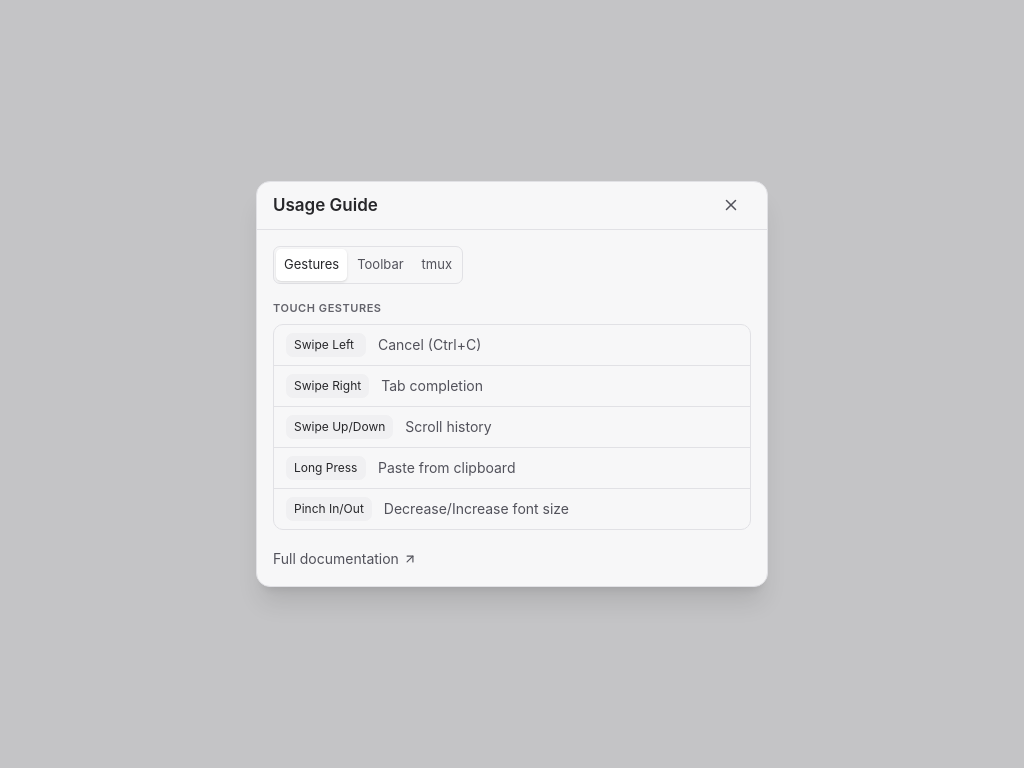
Scenario: HelpModal › switches to Toolbar tab on click
Click the radio button "Toolbar" at [380, 265], box [349,249,412,281]
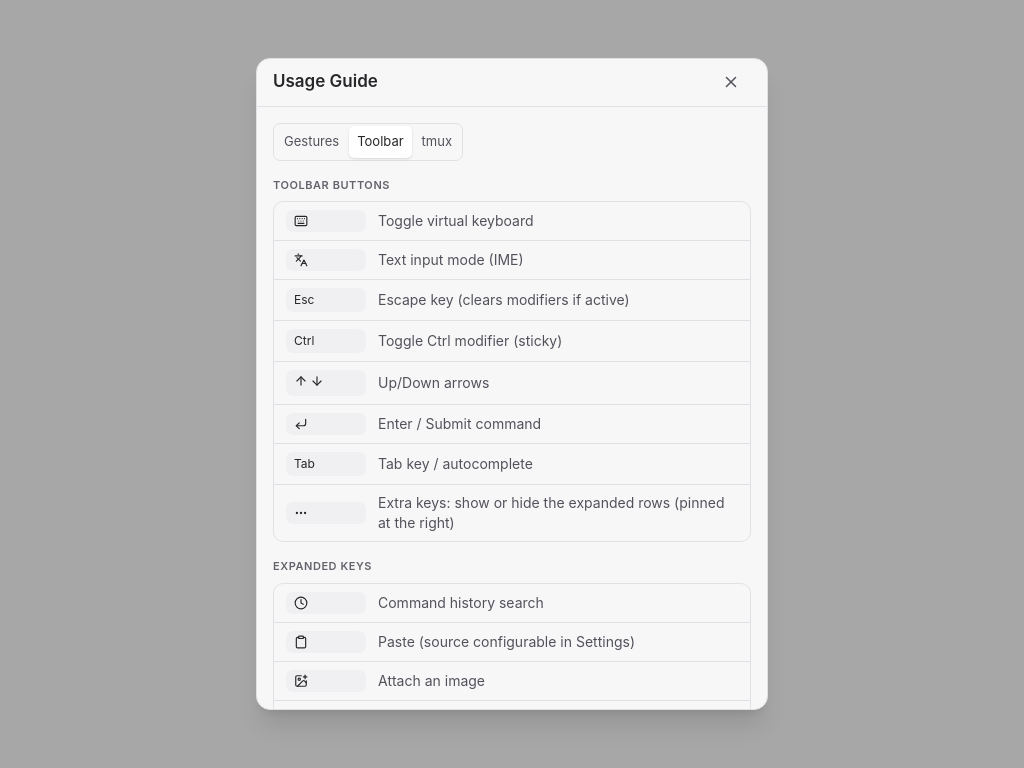
Check: the heading "Toolbar Buttons" is shown, box [273,178,390,192]
